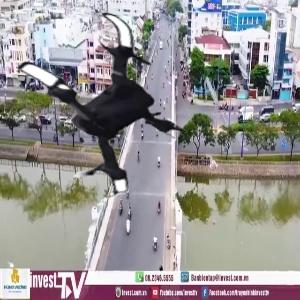drone: (8, 11, 210, 213)
